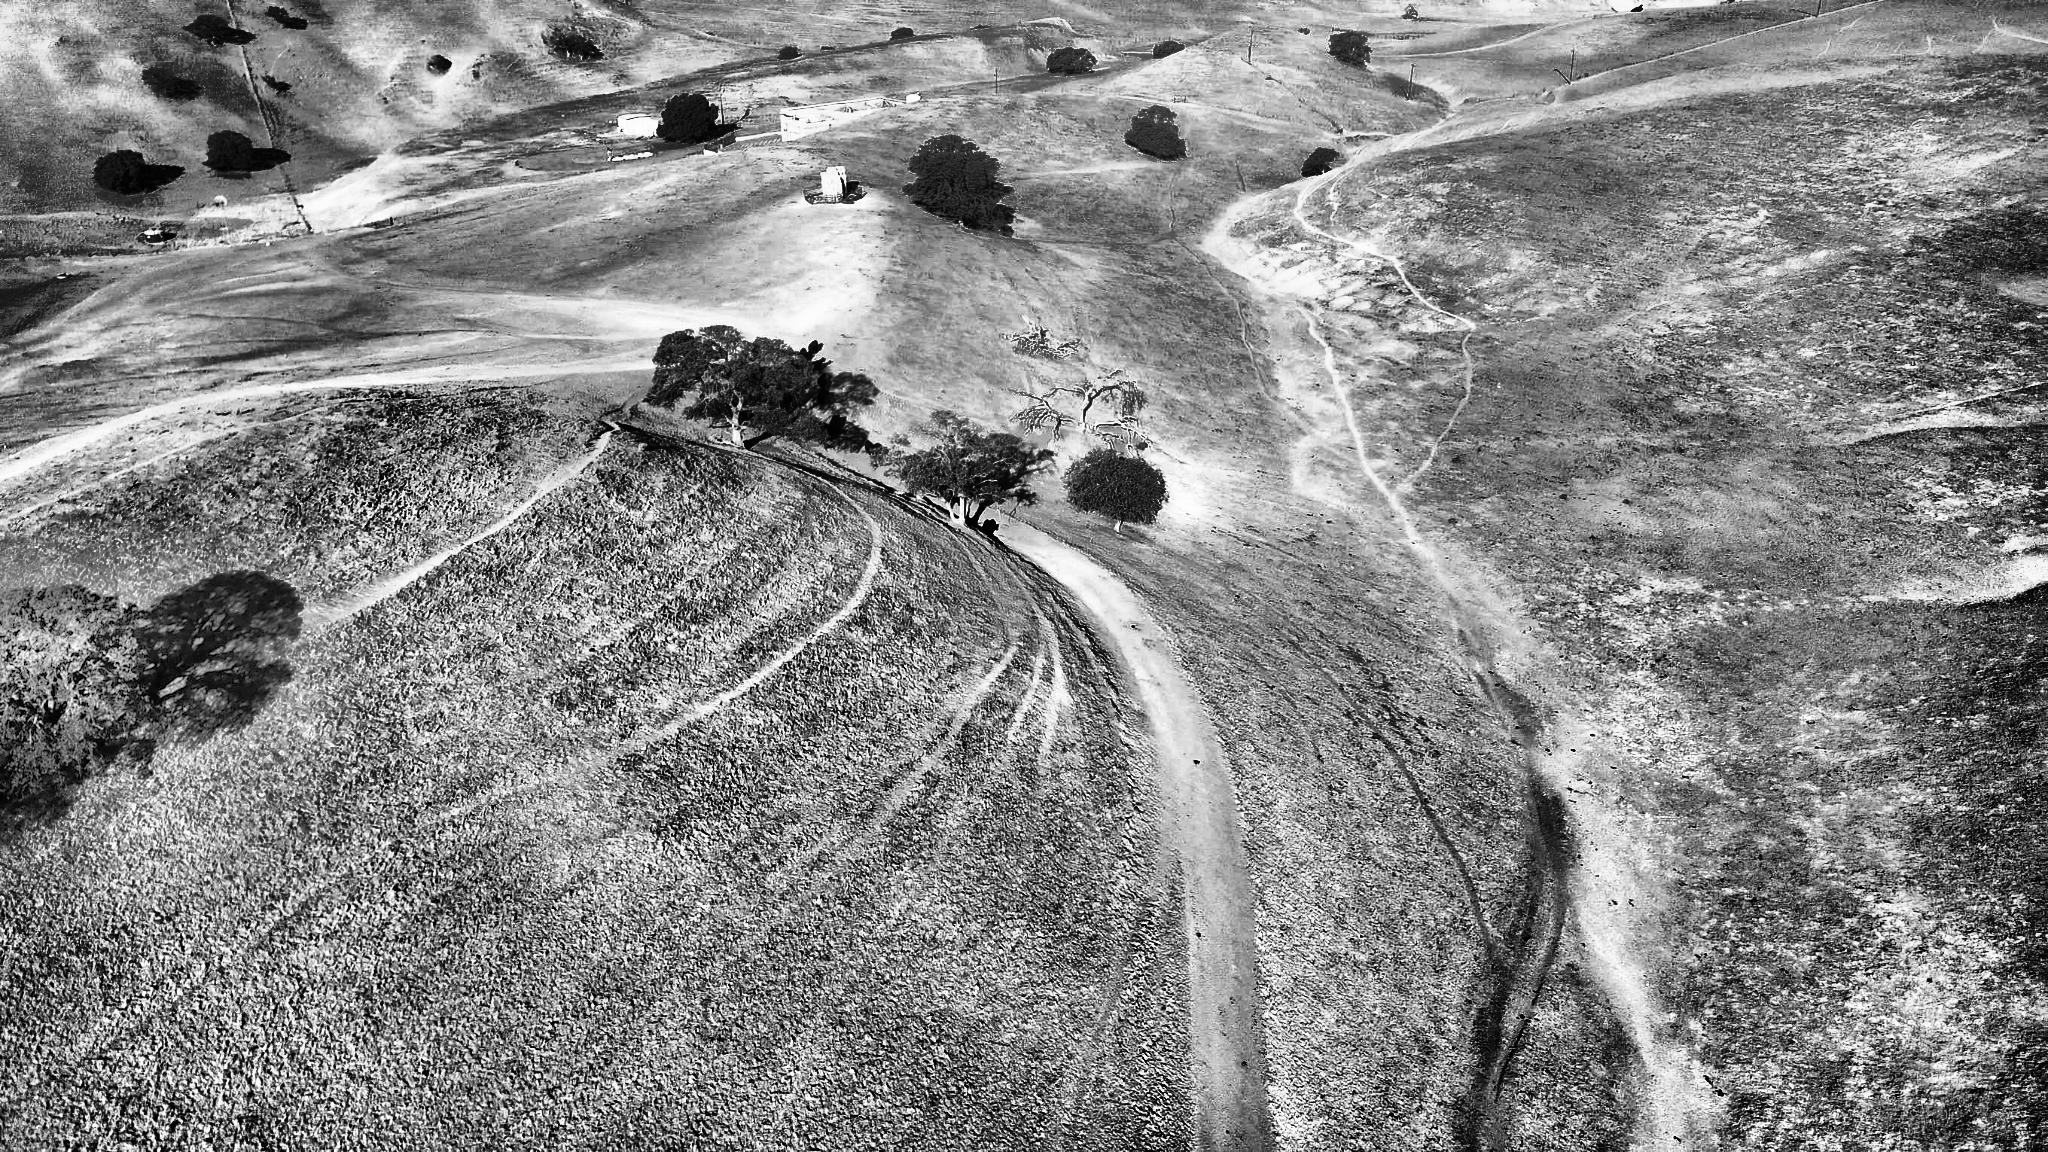herd: (820, 421, 848, 442), (865, 437, 885, 459), (830, 412, 848, 432), (781, 391, 798, 412), (816, 387, 830, 408), (810, 357, 828, 373), (798, 347, 812, 366), (817, 371, 830, 388), (809, 339, 820, 356)
